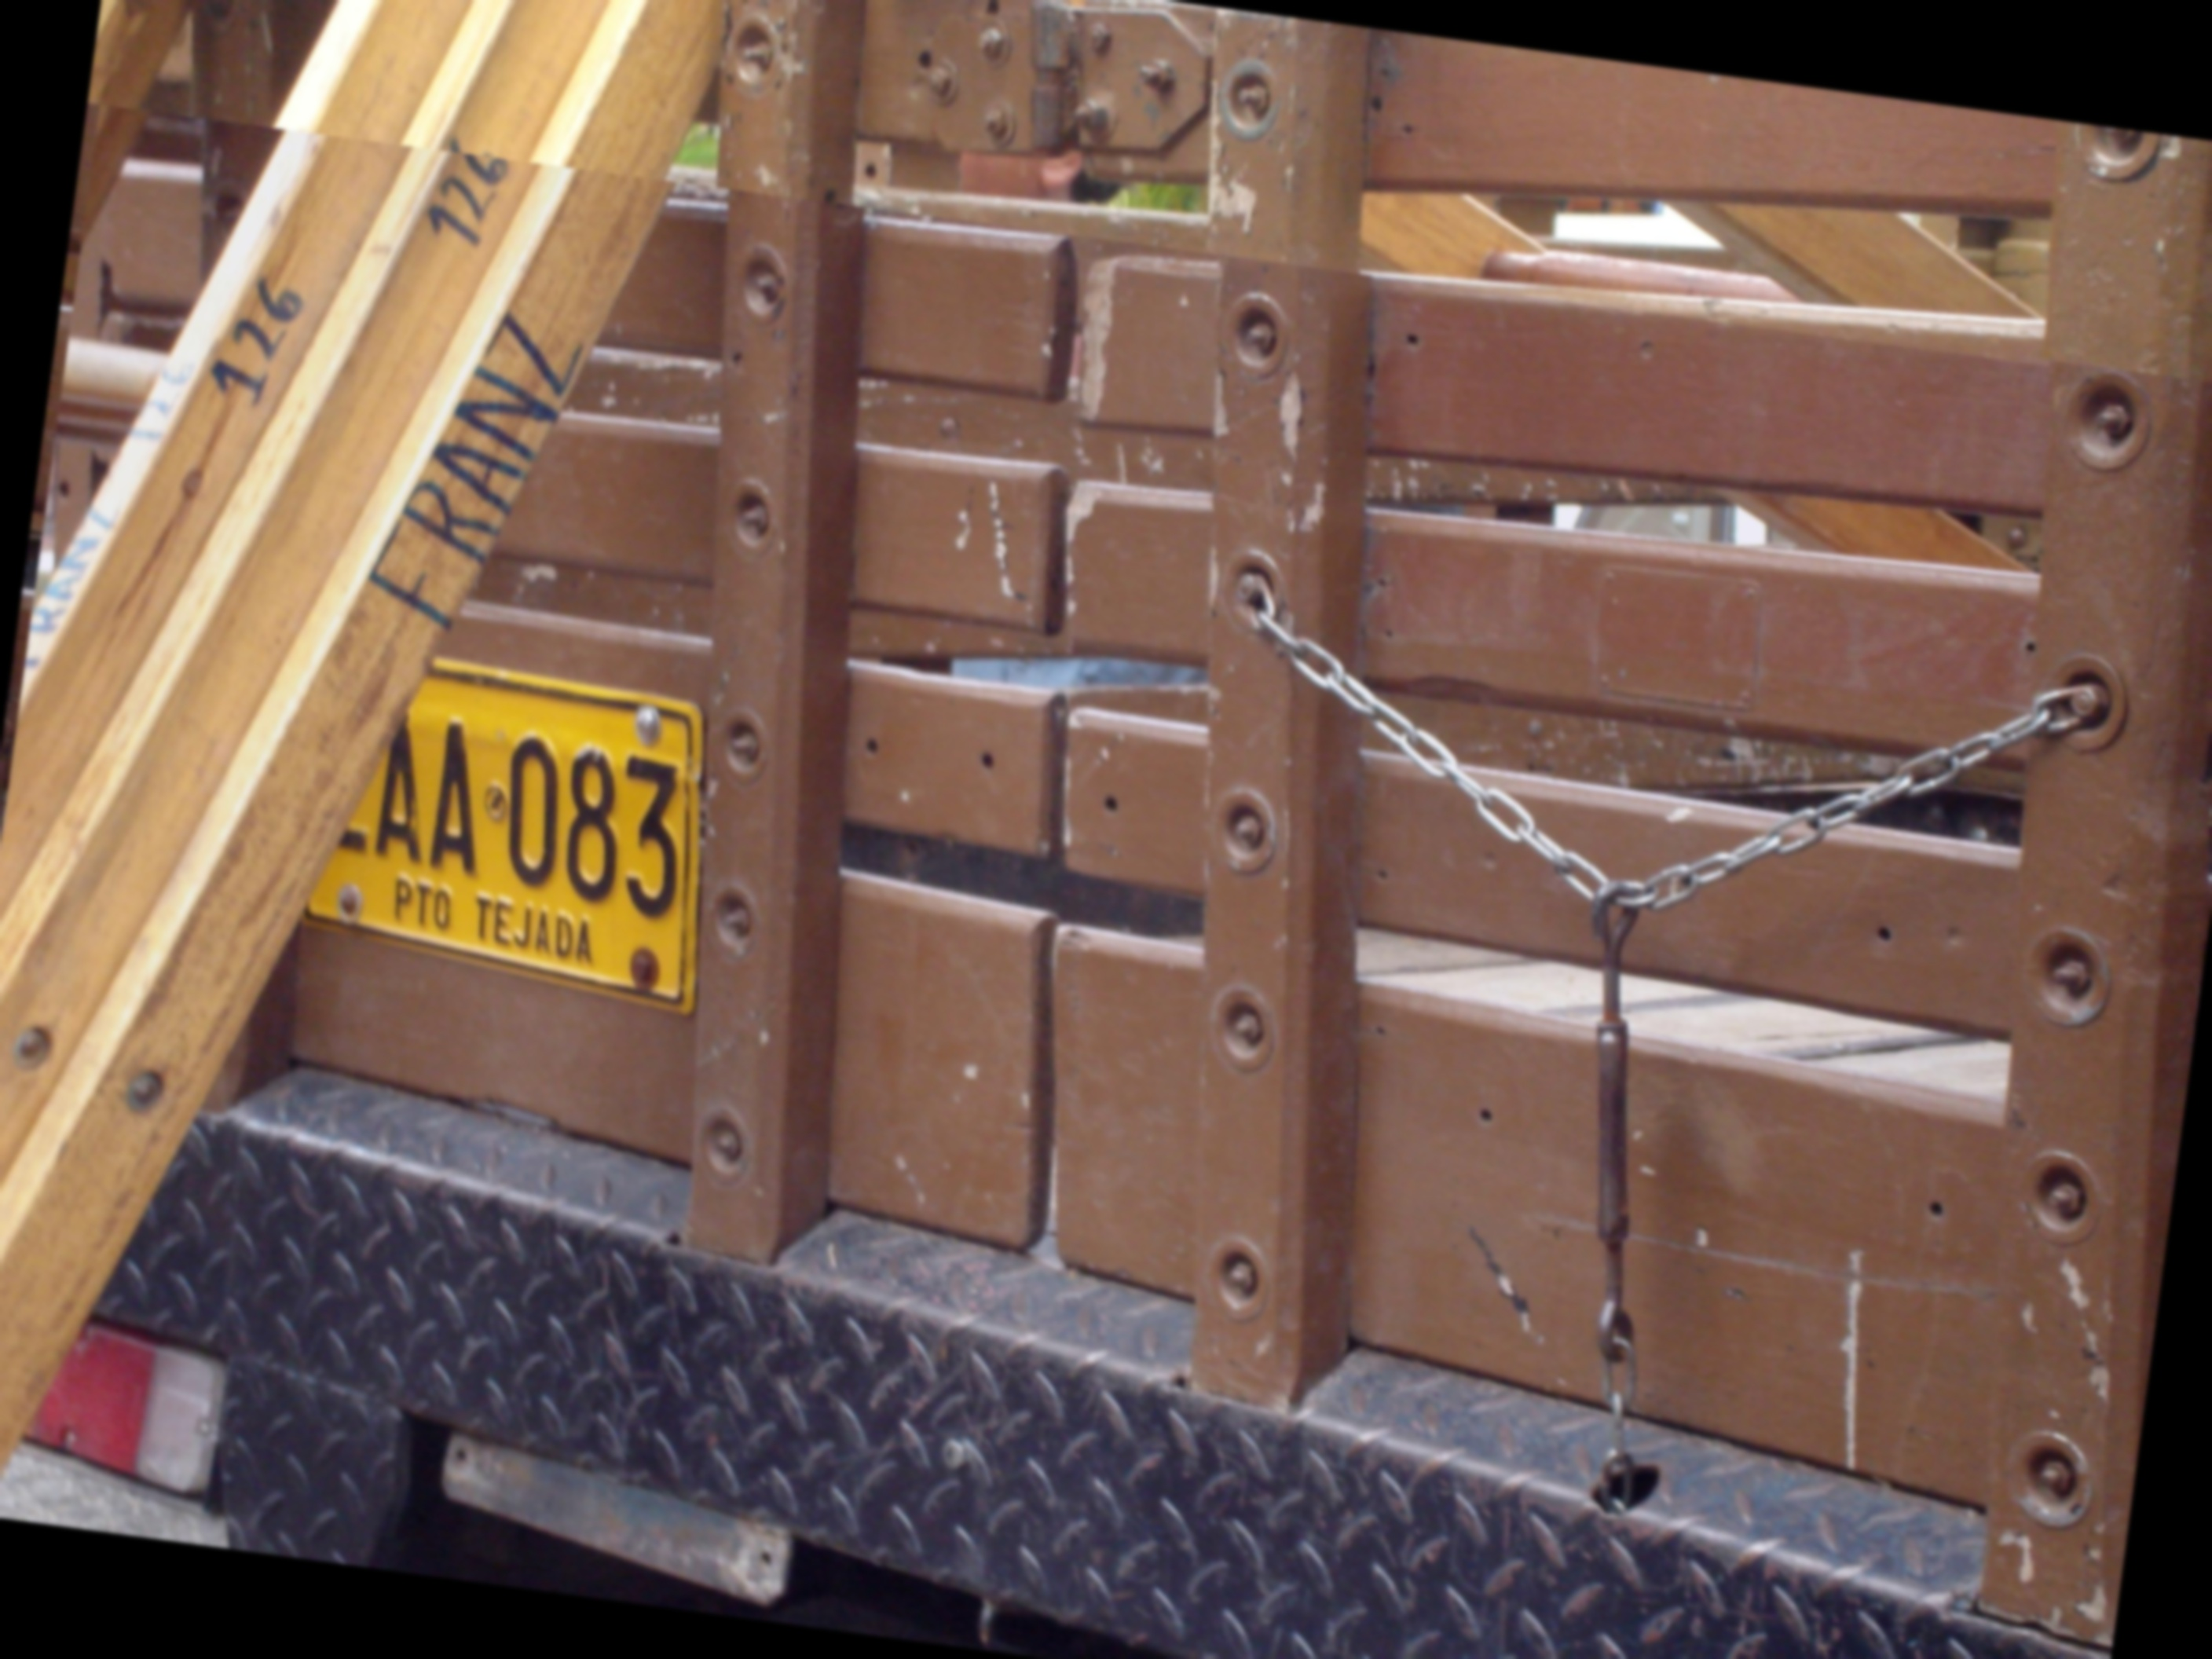placas: (245, 631, 742, 1023)
